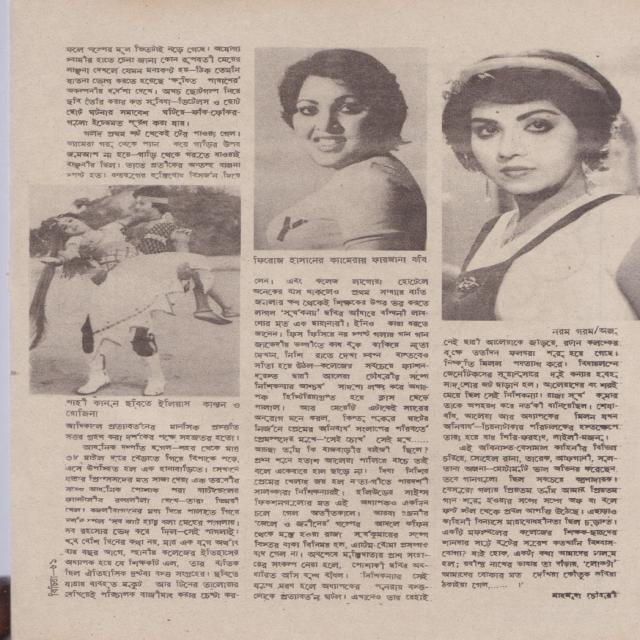caption: (64, 398, 241, 418), (251, 254, 428, 265), (550, 325, 620, 336)
image: (438, 44, 640, 322), (26, 182, 243, 399), (253, 46, 431, 252)
paragraph: (251, 277, 431, 602), (63, 442, 242, 600), (440, 442, 621, 590), (442, 337, 624, 443), (62, 44, 242, 128), (65, 128, 242, 180), (63, 420, 241, 443)
text: (550, 589, 620, 601), (47, 569, 59, 597), (48, 558, 58, 569)
